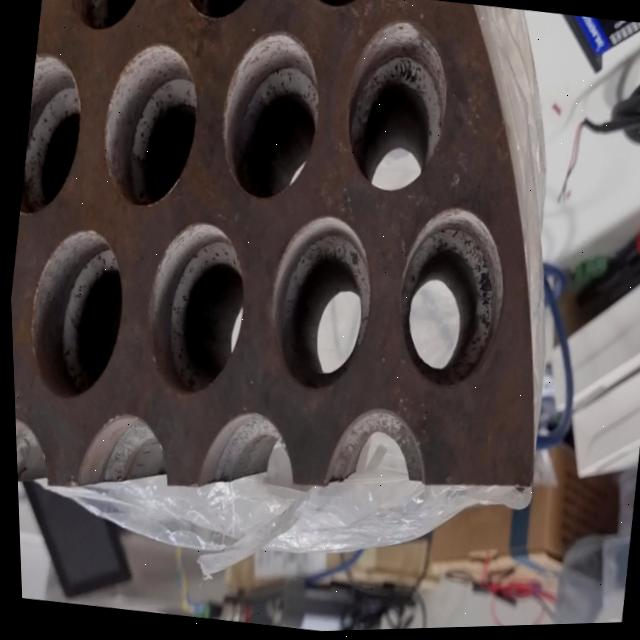Hole: (381, 203, 517, 403), (254, 211, 383, 402), (333, 15, 460, 202), (208, 25, 332, 212), (133, 216, 255, 405), (15, 222, 133, 408), (89, 37, 208, 215), (13, 52, 92, 222), (55, 0, 151, 40), (169, 0, 266, 30)
